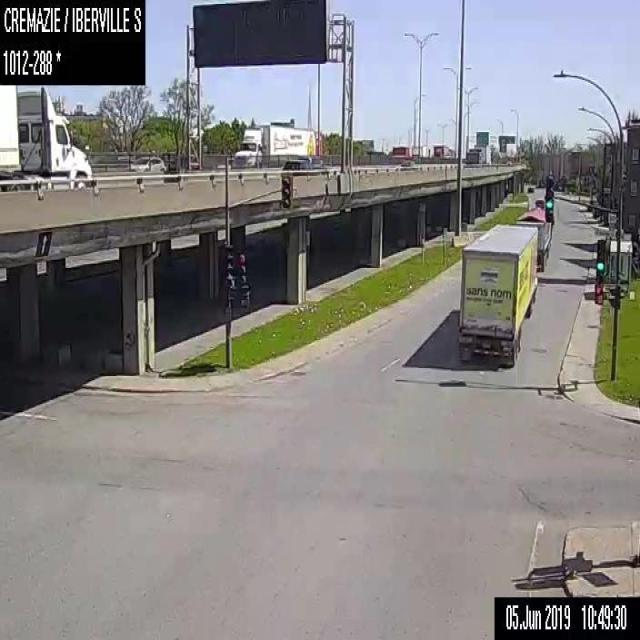vehicle: (457, 221, 539, 364), (0, 83, 96, 181), (232, 123, 314, 167), (515, 205, 552, 270), (129, 153, 166, 171), (282, 159, 311, 171), (474, 144, 491, 164), (308, 158, 328, 171), (395, 159, 417, 170), (532, 197, 544, 209), (526, 185, 534, 192)
